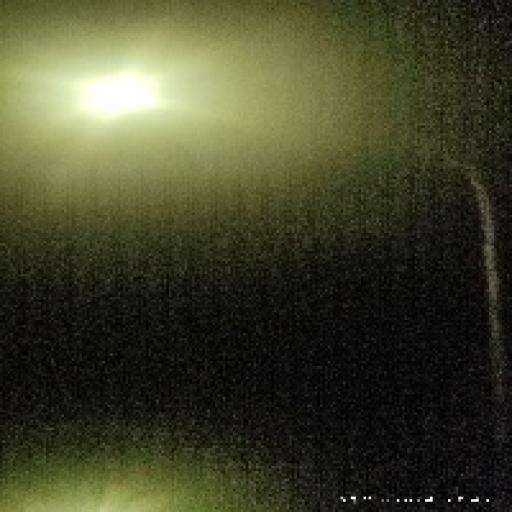Working: (61, 60, 186, 137)
